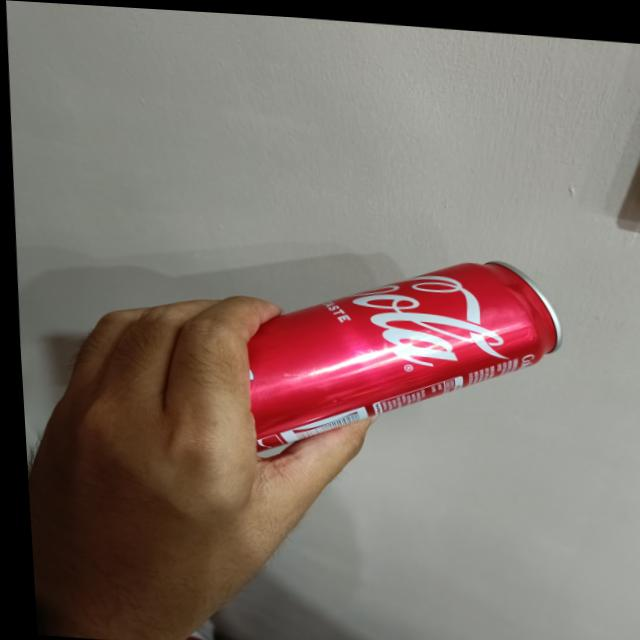coke: (147, 231, 567, 475)
